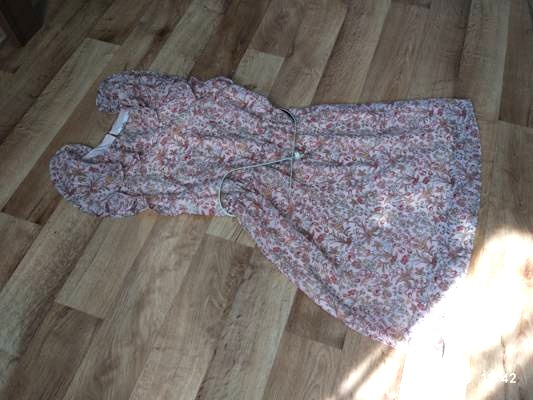Dress: (50, 60, 483, 378)
